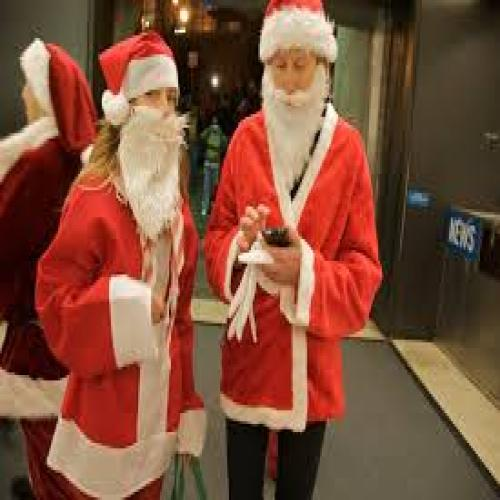Santa: (204, 0, 383, 500), (34, 31, 207, 500), (1, 40, 99, 500)
